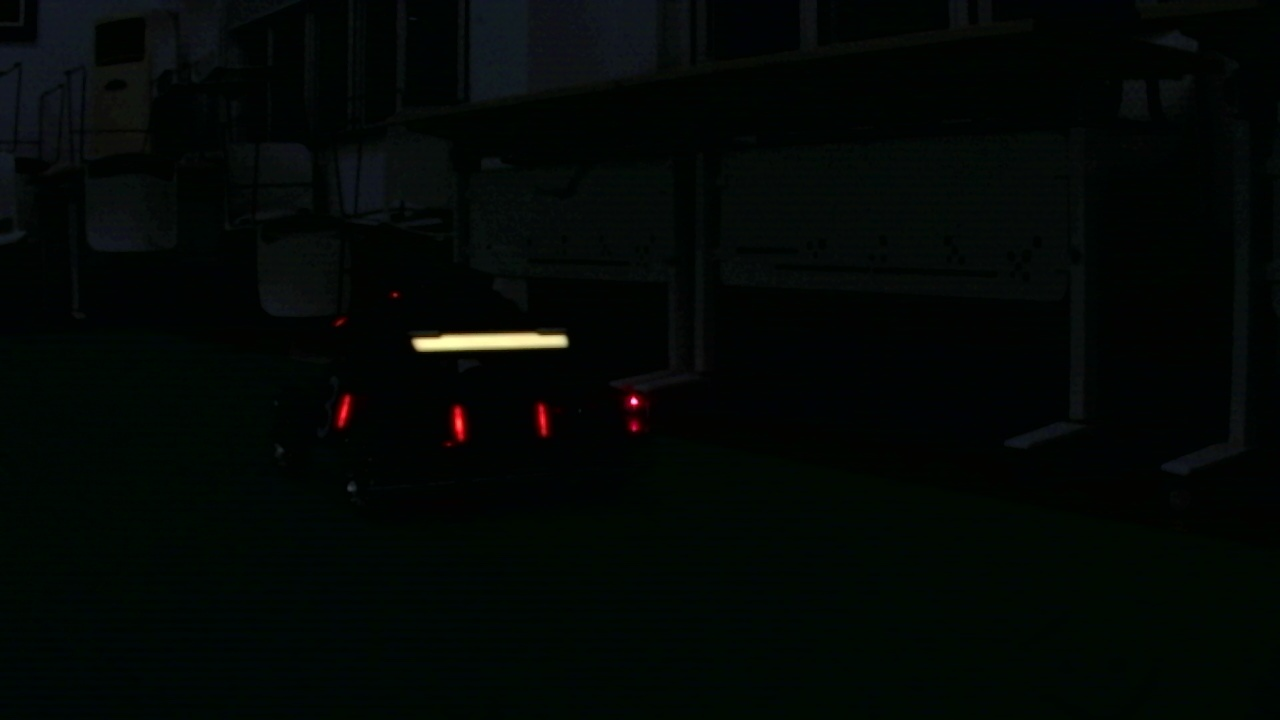lamp: (332, 390, 353, 432), (453, 402, 467, 442), (538, 399, 548, 440)
pair1: (451, 404, 551, 436)
